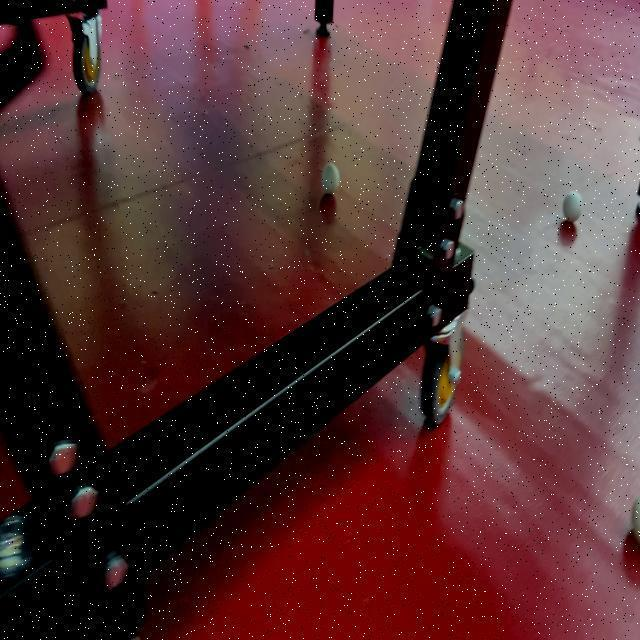ping-pong-ball: (562, 187, 584, 225), (319, 160, 342, 196)
